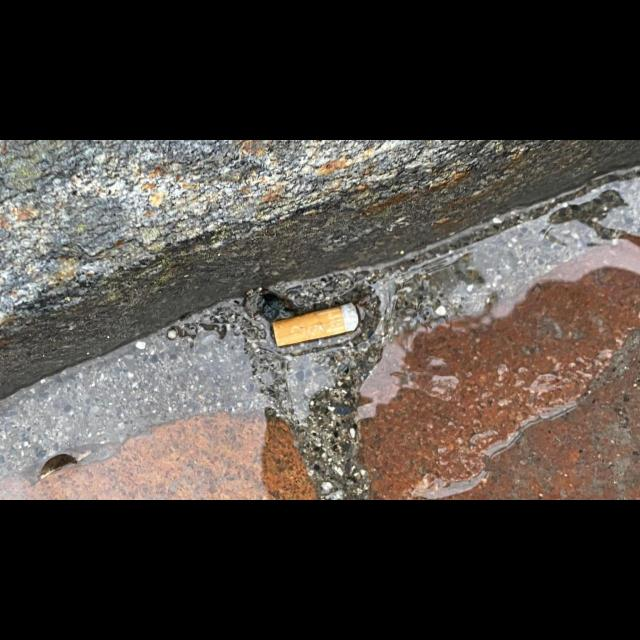cigarette: (270, 301, 360, 347)
